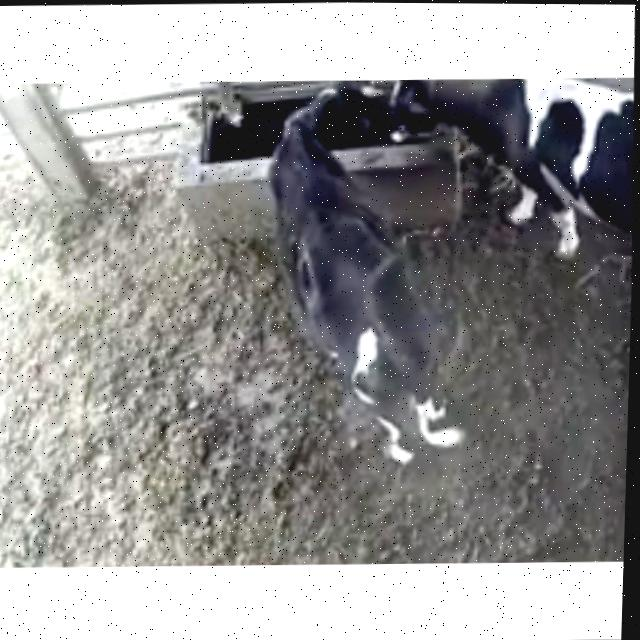drink: (228, 78, 381, 188), (366, 77, 492, 181)
